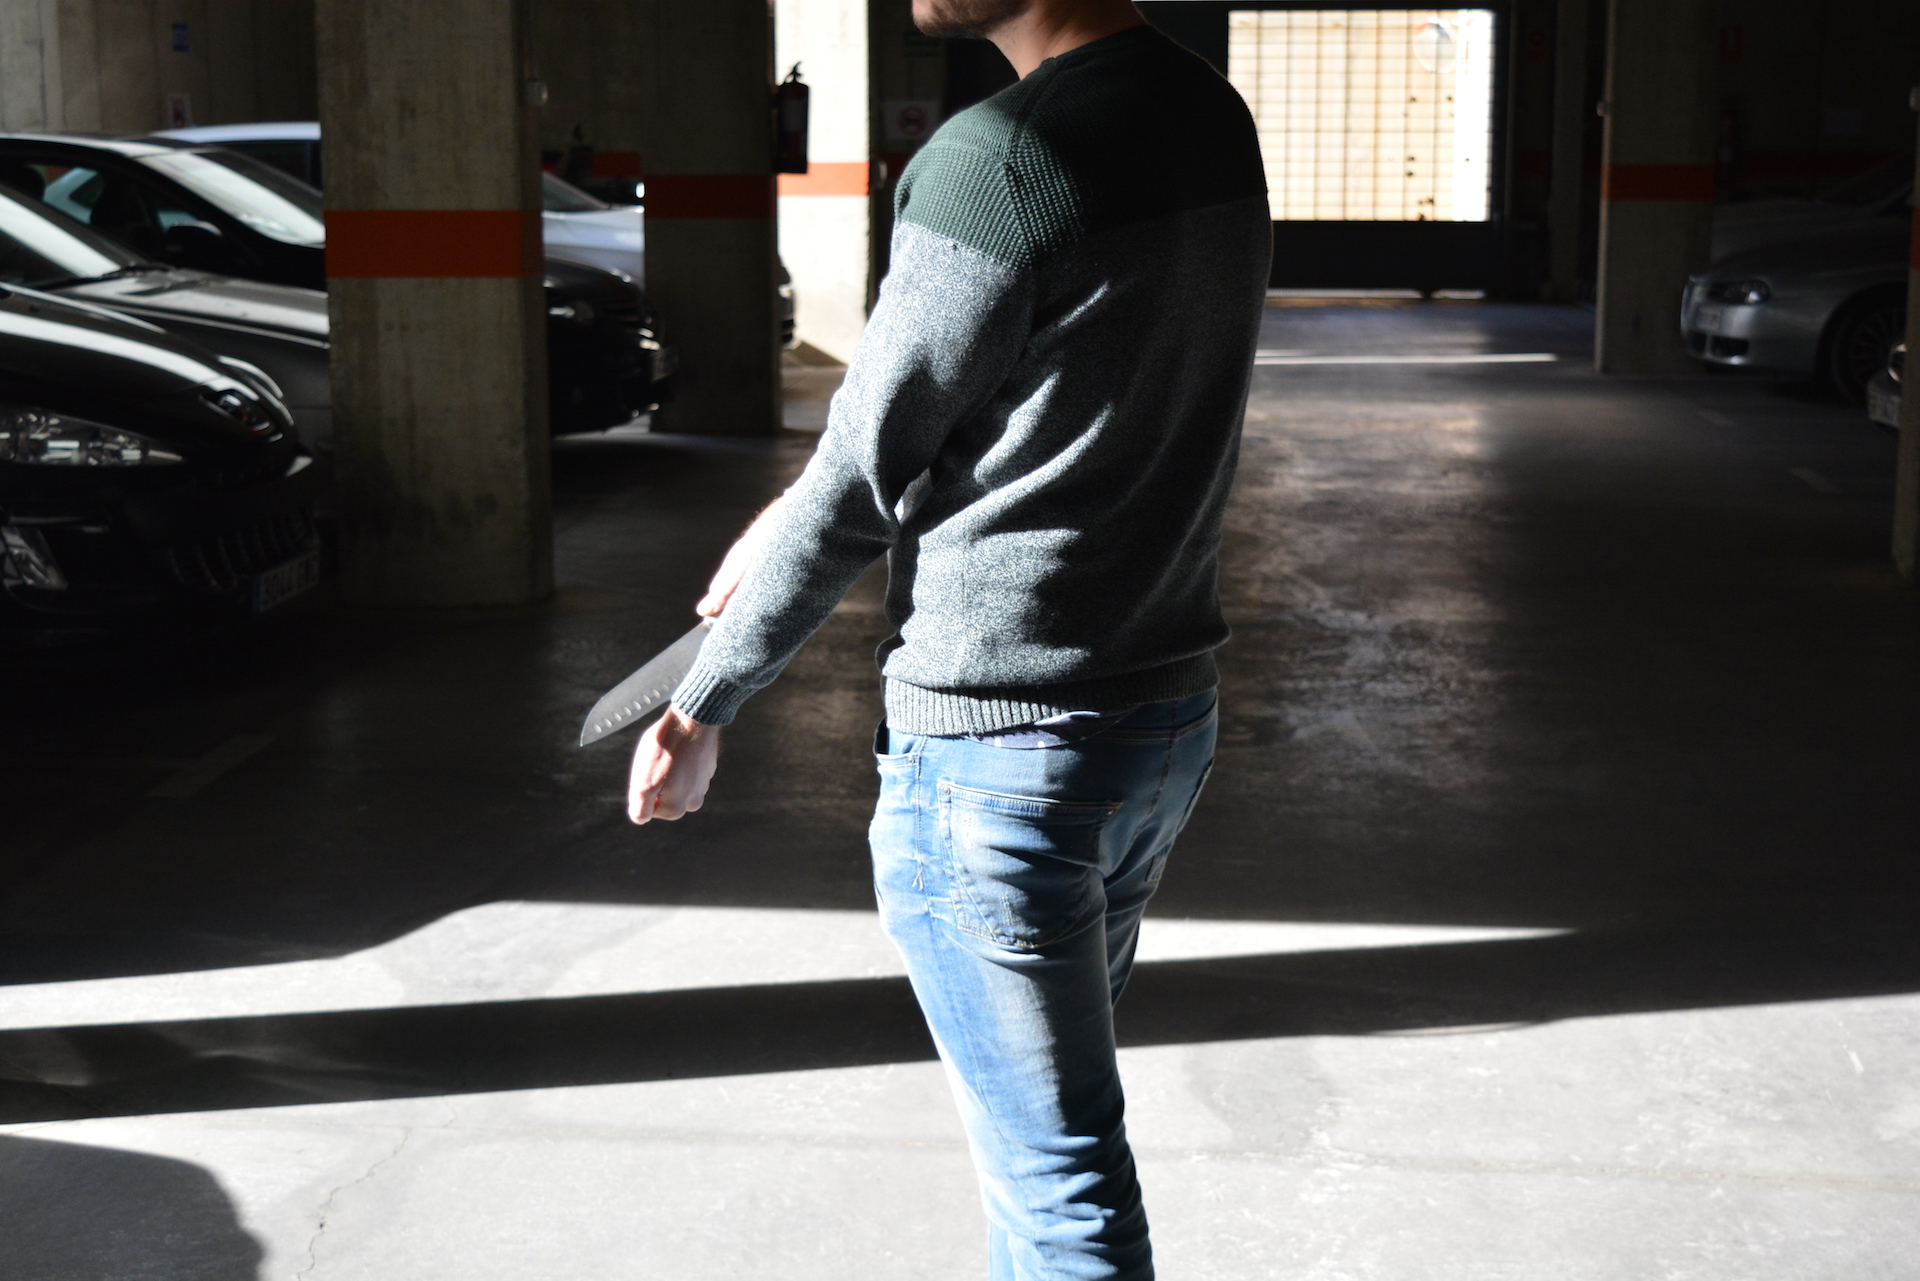knife: (572, 610, 718, 756)
